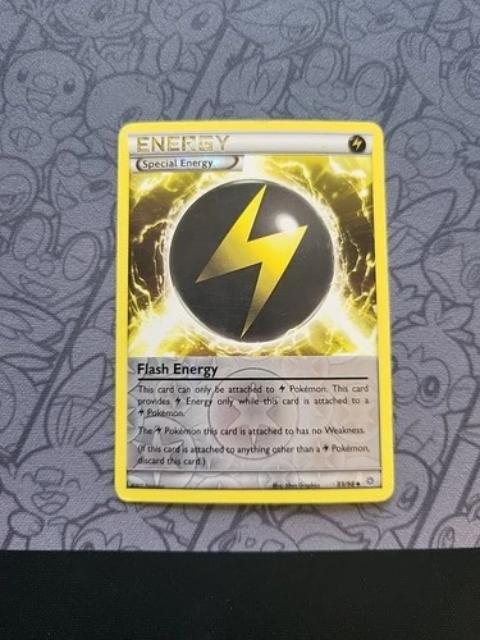Card: (107, 116, 399, 507)
Name: (128, 357, 226, 383)
